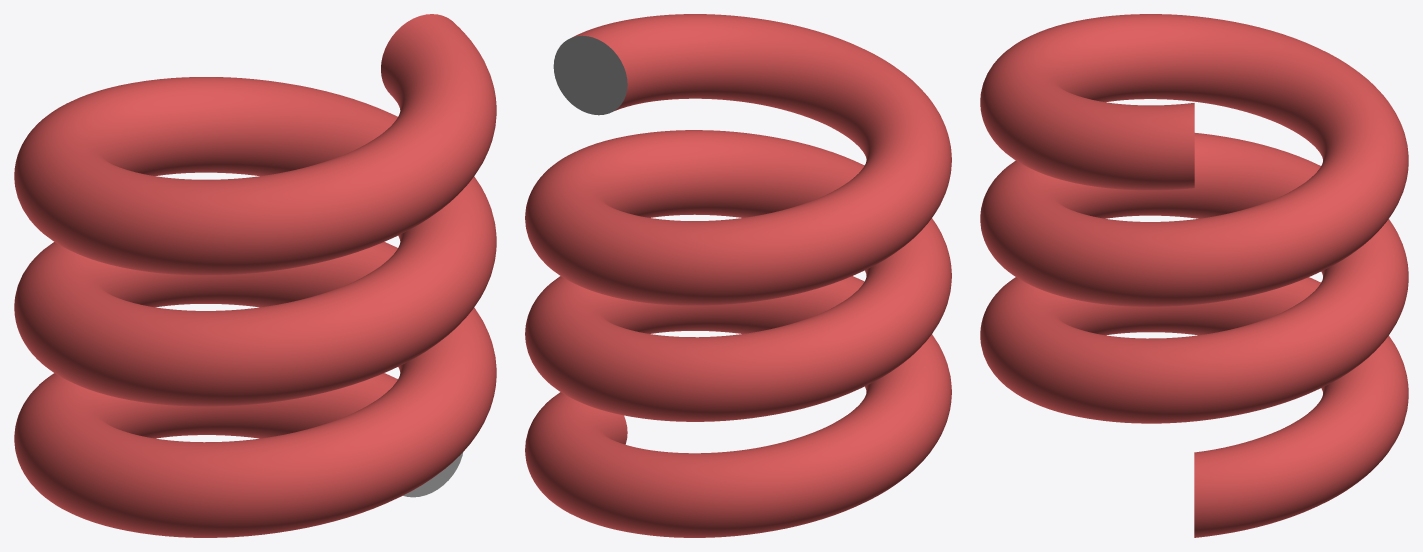
3 views of the same model, side by side, from view 1: azimuth 30°, elevation 25°; view 2: azimuth 150°, elevation 25°; view 3: azimuth 270°, elevation 25° (orthographic). The views are drawn at different scales.
Visible parts, largest first — view 1: Body2; view 2: Body2; view 3: Body2.
Boxes of the visible parts, box(x1,y1,x2,y2) form: Body2: box(14, 14, 496, 537); Body2: box(525, 14, 951, 537); Body2: box(980, 14, 1408, 537).
Bounding box in the file's own units: 2.5 × 2.75 × 2.5.
